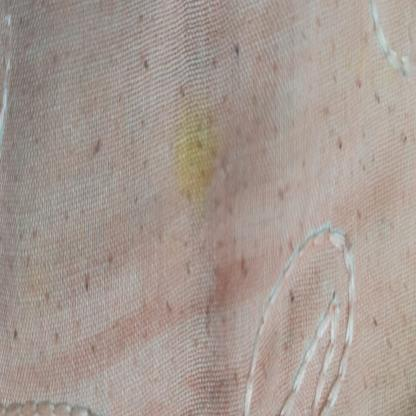spot: (162, 66, 228, 204)
